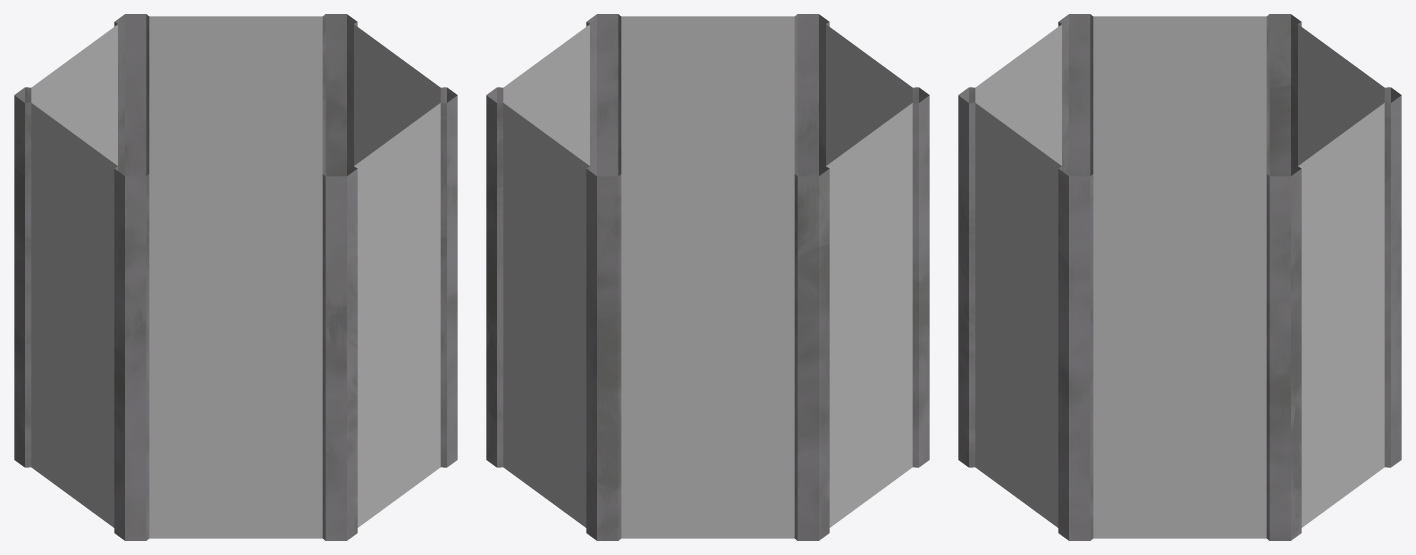
The model's file is Pedestal_B.fbx.
The picture shows the model from 3 angles, left to right: view 1: azimuth 30°, elevation 25°; view 2: azimuth 150°, elevation 25°; view 3: azimuth 270°, elevation 25°; orthographic projection.
Parts seen in each view (by area): view 1: Pedestal_A.004; view 2: Pedestal_A.004; view 3: Pedestal_A.004.
Part boxes in pixels (x1,y1,x2,y2): Pedestal_A.004: (14,14,457,540); Pedestal_A.004: (486,14,929,540); Pedestal_A.004: (958,14,1401,540).
Size of the model in its own units: 3437 by 3600 by 3969.
